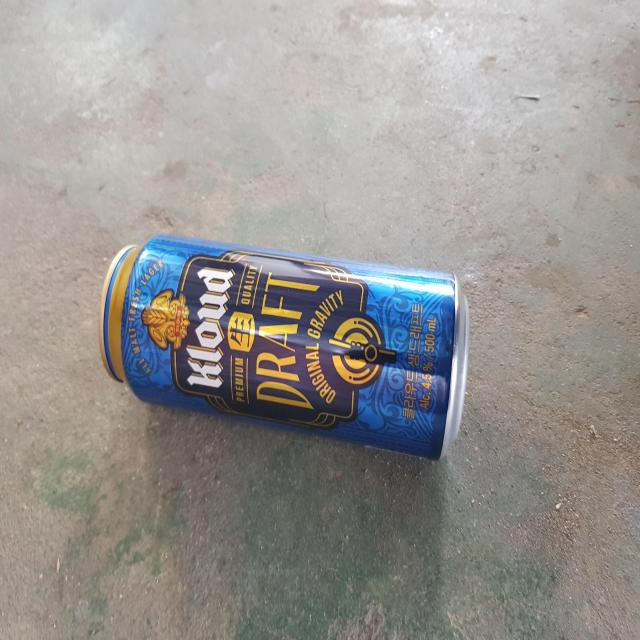can: (99, 235, 470, 459)
